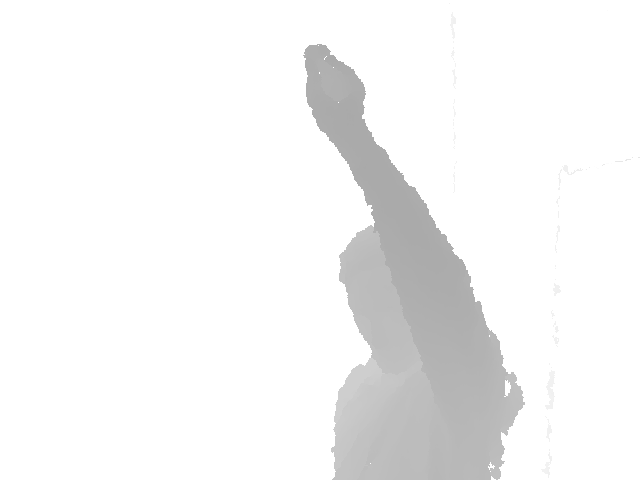hand: (303, 42, 374, 132)
head: (335, 226, 432, 373)
person: (303, 43, 526, 479)
